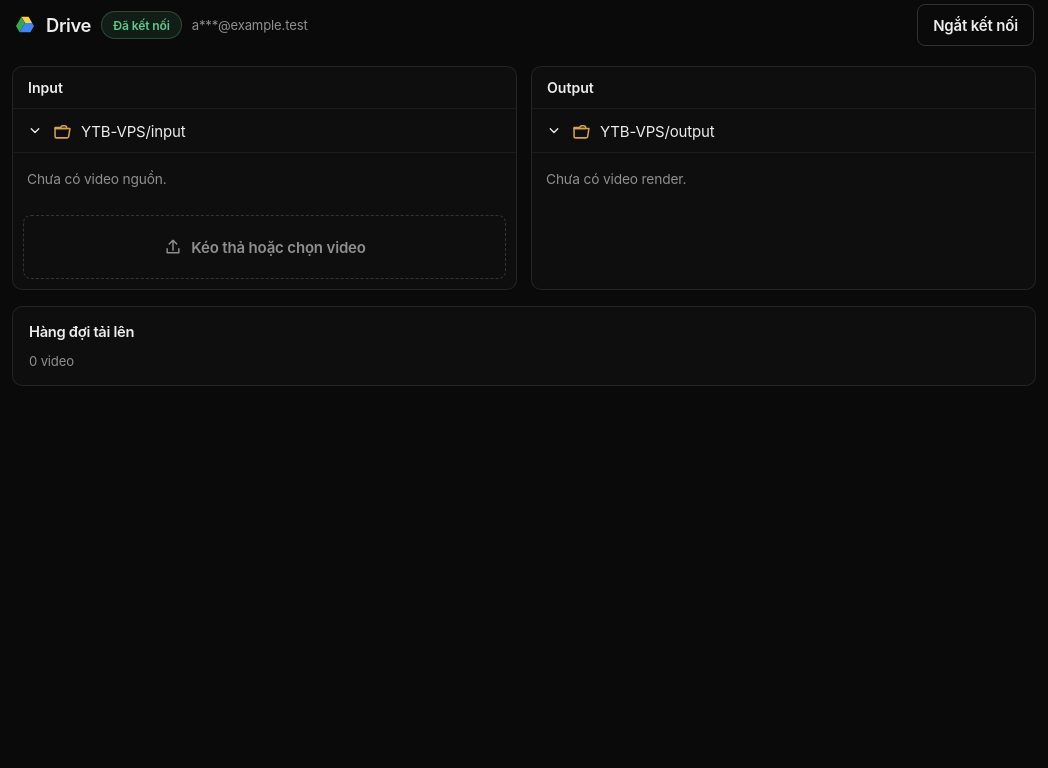
Test: DriveWorkspace › disconnects from the Drive header
Expected: the list item "Chưa có video nguồn." is shown, left=27, top=171, right=167, bottom=187
Click the button "Ngắt kết nối" at (976, 25), box left=917, top=4, right=1034, bottom=46
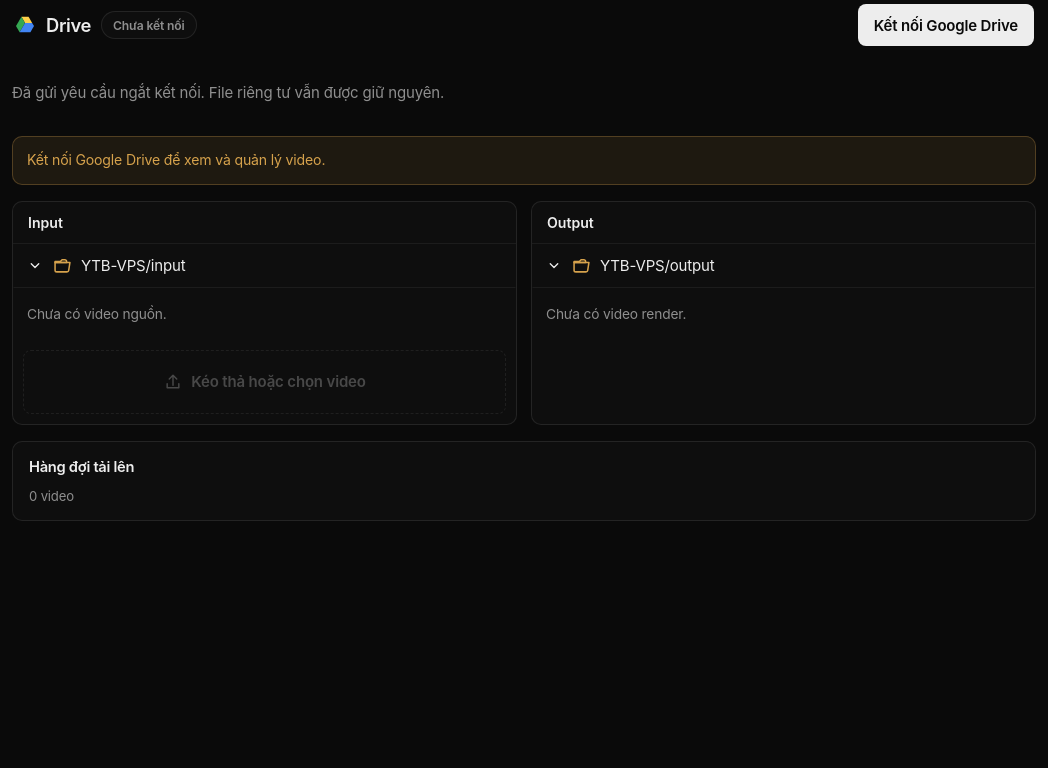
Result: the message shows "Đã gửi yêu cầu ngắt kết nối." at left=12, top=83, right=444, bottom=102
Result: the text "Chưa kết nối" is shown at left=101, top=11, right=196, bottom=39
Result: the button "Kết nối Google Drive" is enabled at left=858, top=4, right=1034, bottom=46
